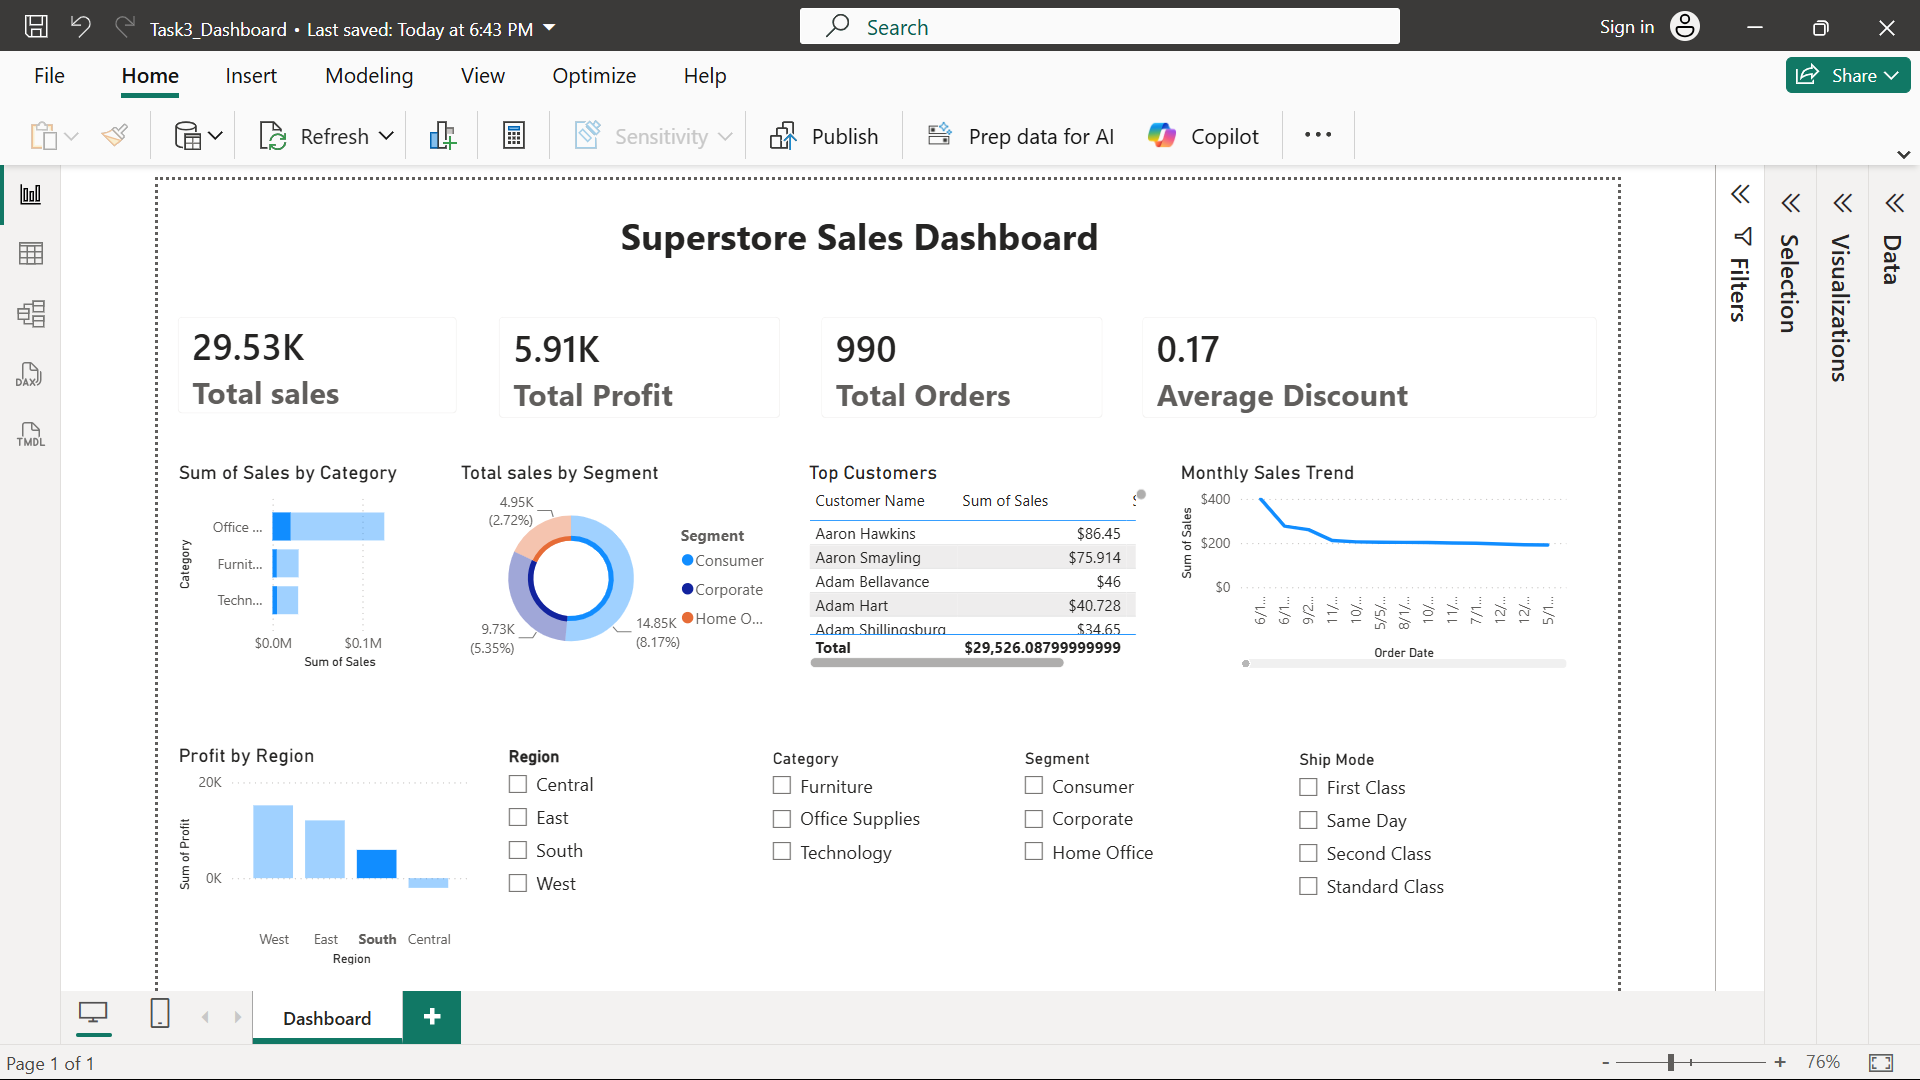

The page's visual inventory and layout, read from the dashboard file:
{"tool":"powerbi","page":{"name":"Dashboard","canvas":[1280,720],"ordinal":0},"visuals":[{"type":"cardVisual","fields":{"Data":["cleaned_superstore.Total sales"]},"box":[0,102.1,279.2,119.4],"z":0},{"type":"cardVisual","fields":{"Data":["cleaned_superstore.Total Profit"]},"box":[281.2,102.1,281.2,123.3],"z":1000},{"type":"cardVisual","fields":{"Data":["cleaned_superstore.Total Orders"]},"box":[564.3,102.1,281.2,123.3],"z":2000},{"type":"cardVisual","fields":{"Data":["cleaned_superstore.Average Discount"]},"box":[846.7,102.1,433.3,123.3],"z":3000},{"type":"clusteredBarChart","fields":{"Category":["cleaned_superstore.Category"],"Y":["Sum(cleaned_superstore.Sales)"]},"box":[13.5,246.5,227.2,186.8],"z":4000},{"type":"donutChart","fields":{"Category":["cleaned_superstore.Segment"],"Y":["cleaned_superstore.Total sales"]},"box":[260,246.5,286.9,186.8],"z":5000},{"type":"lineChart","title":"Monthly Sales Trend ","fields":{"Category":["cleaned_superstore.Order Date"],"Y":["Sum(cleaned_superstore.Sales)"]},"box":[891.6,246.5,348.6,186.8],"z":6000},{"type":"columnChart","title":"Profit by Region","fields":{"Category":["cleaned_superstore.Region"],"Y":["Sum(cleaned_superstore.Profit)"]},"box":[13.5,494.9,265.8,198.4],"z":7000},{"type":"tableEx","title":"Top Customers","fields":{"Values":["cleaned_superstore.Customer Name","Sum(cleaned_superstore.Sales)","Sum(cleaned_superstore.Profit)"]},"box":[566.2,246.5,306.2,186.8],"z":8000},{"type":"slicer","fields":{"Values":["cleaned_superstore.Region"]},"box":[294.6,492,215.7,202.2],"z":9000},{"type":"slicer","fields":{"Values":["cleaned_superstore.Category"]},"box":[525.7,493,206.1,202.2],"z":10000},{"type":"slicer","fields":{"Values":["cleaned_superstore.Segment"]},"box":[747.2,494,225.3,202.2],"z":11000},{"type":"slicer","fields":{"Values":["cleaned_superstore.Ship Mode"]},"box":[987.9,494.9,269.6,206.1],"z":12000},{"type":"textbox","box":[189.3,21.2,852.5,62.1],"z":14000}]}

Visuals, with their boxes on the page's 1280x720 design canvas (x1, y1, x2, y2). These are canvas units, not pixel positions in the 1920x1080 screenshot, which may show the page scaled, cropped or inside an application window:
cardVisual - cleaned_superstore.Total sales: BBox(0, 102, 279, 222)
cardVisual - cleaned_superstore.Total Profit: BBox(281, 102, 562, 225)
cardVisual - cleaned_superstore.Total Orders: BBox(564, 102, 846, 225)
cardVisual - cleaned_superstore.Average Discount: BBox(847, 102, 1280, 225)
clusteredBarChart - cleaned_superstore.Category x Sum(cleaned_superstore.Sales): BBox(14, 246, 241, 433)
donutChart - cleaned_superstore.Segment x cleaned_superstore.Total sales: BBox(260, 246, 547, 433)
"Monthly Sales Trend " lineChart: BBox(892, 246, 1240, 433)
"Profit by Region" columnChart: BBox(14, 495, 279, 693)
"Top Customers" tableEx: BBox(566, 246, 872, 433)
slicer - cleaned_superstore.Region: BBox(295, 492, 510, 694)
slicer - cleaned_superstore.Category: BBox(526, 493, 732, 695)
slicer - cleaned_superstore.Segment: BBox(747, 494, 972, 696)
slicer - cleaned_superstore.Ship Mode: BBox(988, 495, 1258, 701)
textbox: BBox(189, 21, 1042, 83)
